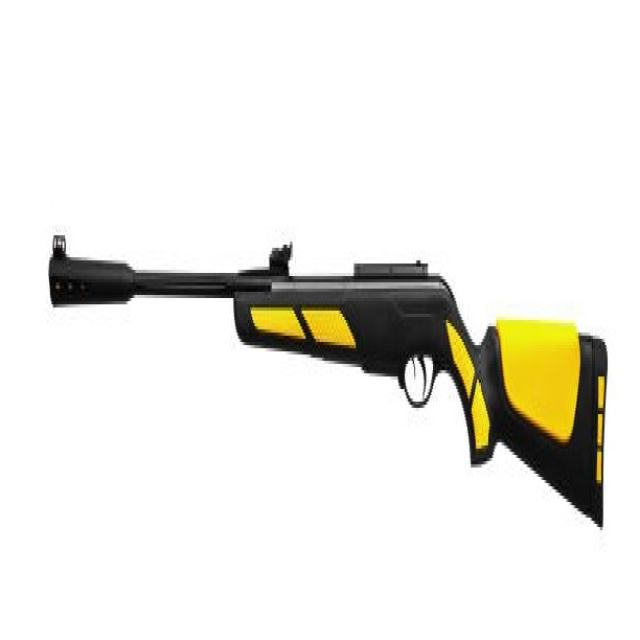rifle: (39, 199, 617, 567)
